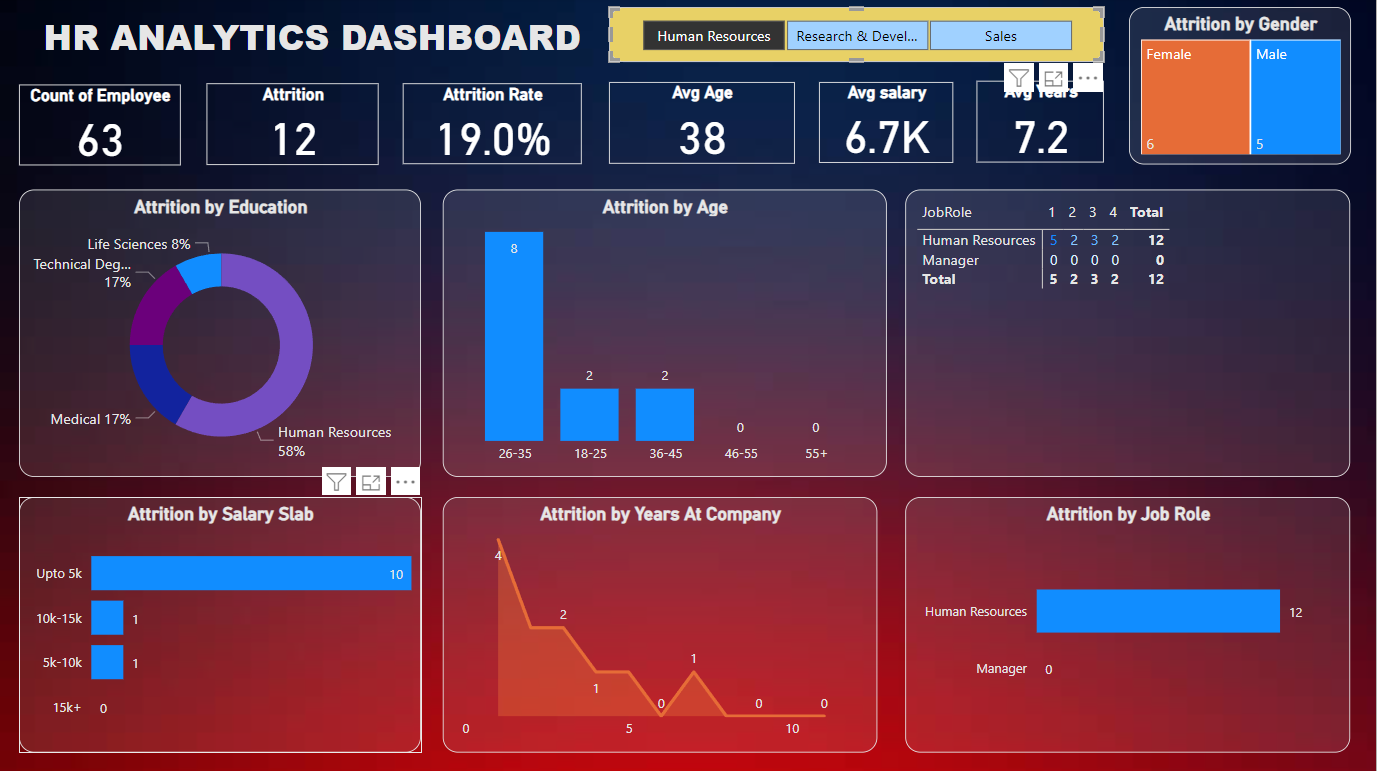

The page's visual inventory and layout, read from the dashboard file:
{"tool":"powerbi","page":{"name":"Page 1","canvas":[1280,720],"ordinal":0},"visuals":[{"type":"card","title":"Count of Employee","fields":{"Values":["CountNonNull(HR_Analytics.EmpID)"]},"box":[18.8,81.2,150,75],"z":0},{"type":"card","title":"Attrition","fields":{"Values":["Sum(HR_Analytics.AttritionCount)"]},"box":[192.5,80,160,76.2],"z":1000},{"type":"card","title":"Avg Age","fields":{"Values":["Avg(HR_Analytics.Age)"]},"box":[567.5,78.8,172.5,76.2],"z":2000},{"type":"card","title":"Attrition Rate","fields":{"Values":["HR_Analytics.AttritionRate"]},"box":[375,80,166.2,75],"z":3000},{"type":"card","title":"Avg salary","fields":{"Values":["Avg(HR_Analytics.MonthlyIncome)"]},"box":[762.5,78.8,125,75],"z":4000},{"type":"card","title":"Avg Years","fields":{"Values":["Avg(HR_Analytics.YearsAtCompany)"]},"box":[908.8,77.5,118.8,76.2],"z":5000},{"type":"donutChart","title":"Attrition by Education","fields":{"Category":["HR_Analytics.EducationField"],"Y":["Sum(HR_Analytics.AttritionCount)"]},"box":[18.8,178.8,373.8,267.5],"z":6000},{"type":"columnChart","title":"Attrition by Age","fields":{"Category":["HR_Analytics.AgeGroup"],"Y":["Sum(HR_Analytics.AttritionCount)"]},"box":[412.5,178.8,412.5,267.5],"z":7000},{"type":"pivotTable","fields":{"Rows":["HR_Analytics.JobRole"],"Columns":["HR_Analytics.JobSatisfaction"],"Values":["Sum(HR_Analytics.AttritionCount)"]},"box":[842.5,178.8,413.8,267.5],"z":8000},{"type":"barChart","title":"Attrition by Job Role","fields":{"Category":["HR_Analytics.JobRole"],"Y":["Sum(HR_Analytics.AttritionCount)"]},"box":[842.5,465,413.8,237.5],"z":9000},{"type":"barChart","title":"Attrition by Salary Slab","fields":{"Category":["HR_Analytics.SalarySlab"],"Y":["Sum(HR_Analytics.AttritionCount)"]},"box":[18.8,465,373.8,237.5],"z":9001},{"type":"areaChart","title":"Attrition by Years At Company","fields":{"Category":["HR_Analytics.YearsAtCompany"],"Y":["Sum(HR_Analytics.AttritionCount)"]},"box":[412.5,465,403.8,237.5],"z":9002},{"type":"treemap","title":"Attrition by Gender","fields":{"Group":["HR_Analytics.Gender"],"Values":["Sum(HR_Analytics.AttritionCount)"]},"box":[1050,8.8,206.2,146.2],"z":9003},{"type":"slicer","fields":{"Values":["HR_Analytics.Department"]},"box":[567.5,8.8,460,51.2],"z":9004},{"type":"textbox","box":[18.8,8.8,576.2,61.2],"z":9005}]}

Visuals, with their boxes in screenshot pixels (x1, y1, x2, y2), scaled from the page's 1280x720 canvas onto the 1377x771 screenshot:
"Count of Employee" card: (20,87,182,167)
"Attrition" card: (207,86,379,167)
"Avg Age" card: (611,84,796,166)
"Attrition Rate" card: (403,86,582,166)
"Avg salary" card: (820,84,955,165)
"Avg Years" card: (978,83,1105,165)
"Attrition by Education" donutChart: (20,191,422,478)
"Attrition by Age" columnChart: (444,191,888,478)
pivotTable - HR_Analytics.JobRole x HR_Analytics.JobSatisfaction: (906,191,1352,478)
"Attrition by Job Role" barChart: (906,498,1352,752)
"Attrition by Salary Slab" barChart: (20,498,422,752)
"Attrition by Years At Company" areaChart: (444,498,878,752)
"Attrition by Gender" treemap: (1130,9,1351,166)
slicer - HR_Analytics.Department: (611,9,1105,64)
textbox: (20,9,640,75)
